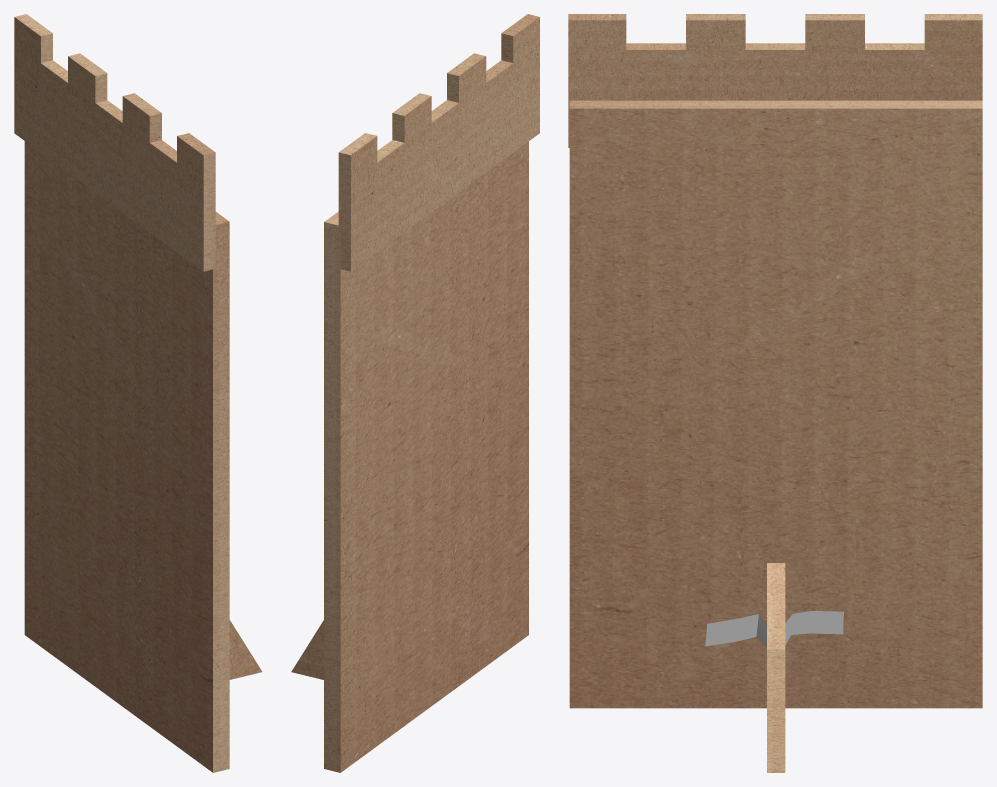
Rendered from Cardboard_wall.fbx.
The picture shows the model from 3 angles, left to right: view 1: azimuth 30°, elevation 25°; view 2: azimuth 150°, elevation 25°; view 3: azimuth 270°, elevation 25°; orthographic projection. The views are drawn at different scales.
Visible parts, largest first — view 1: Cardboard_tower.001; view 2: Cardboard_tower.001; view 3: Cardboard_tower.001.
Part boxes in pixels (x1,y1,x2,y2): Cardboard_tower.001: (14,14,262,772); Cardboard_tower.001: (291,14,539,772); Cardboard_tower.001: (568,14,982,772).
Bounding box in the file's own units: 12.39 × 49.08 × 27.12.
